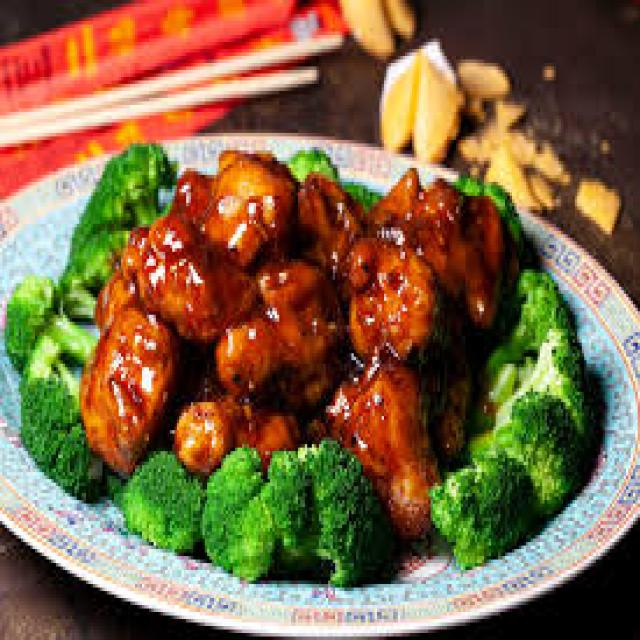Chicken: (81, 150, 503, 535)
Green veg: (5, 143, 393, 584), (428, 269, 591, 567), (454, 175, 528, 255), (286, 150, 337, 178), (342, 182, 379, 206)
